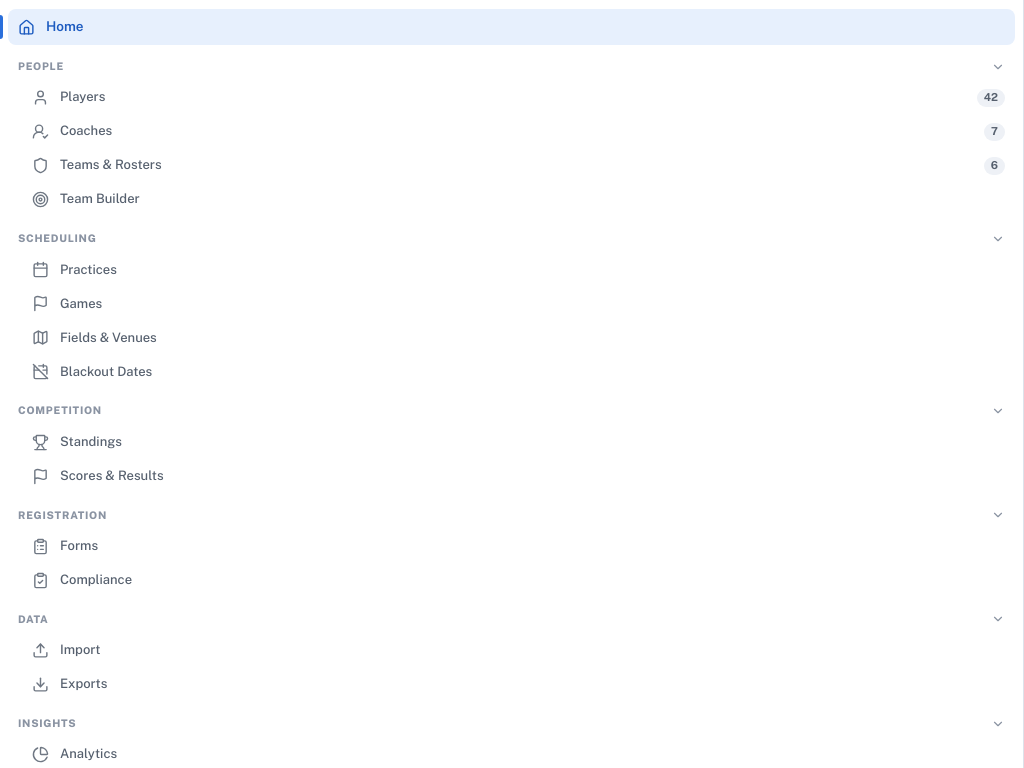
Test: SideNav › collapses a group when its label is clicked
The image size is (1024, 768).
Expected: the link "Practices" is shown, [32,261,117,278]
Click the button "Scheduling".
click(57, 238)  # box [8,223,1015,252]
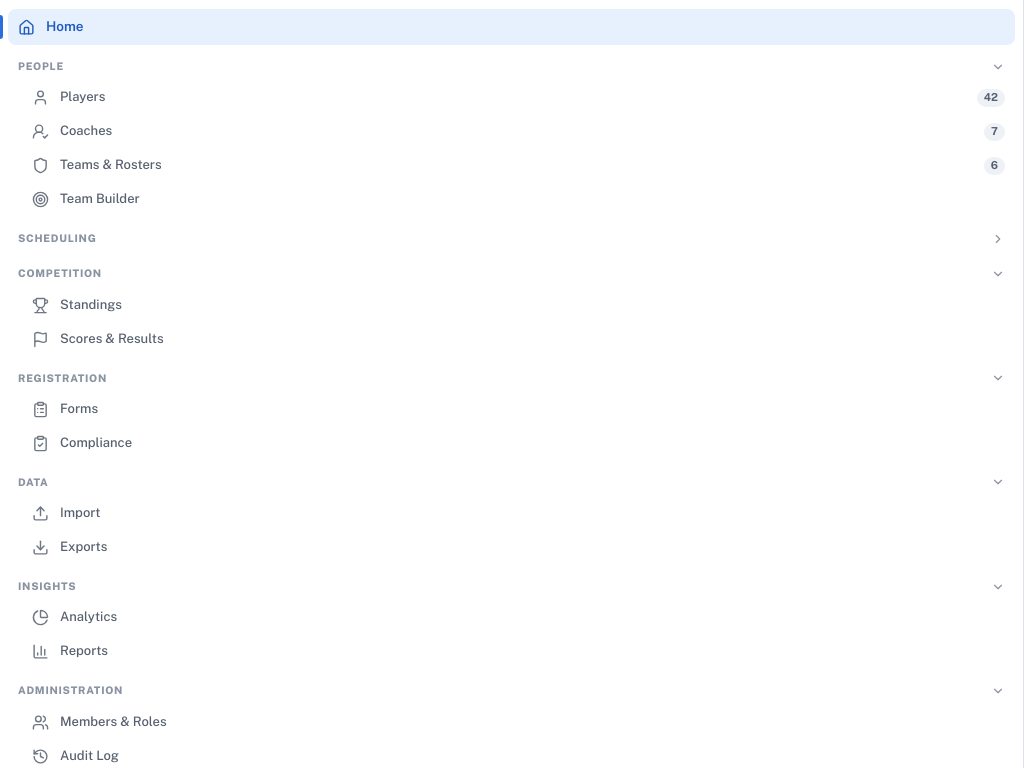
Now the link "Practices" is gone
